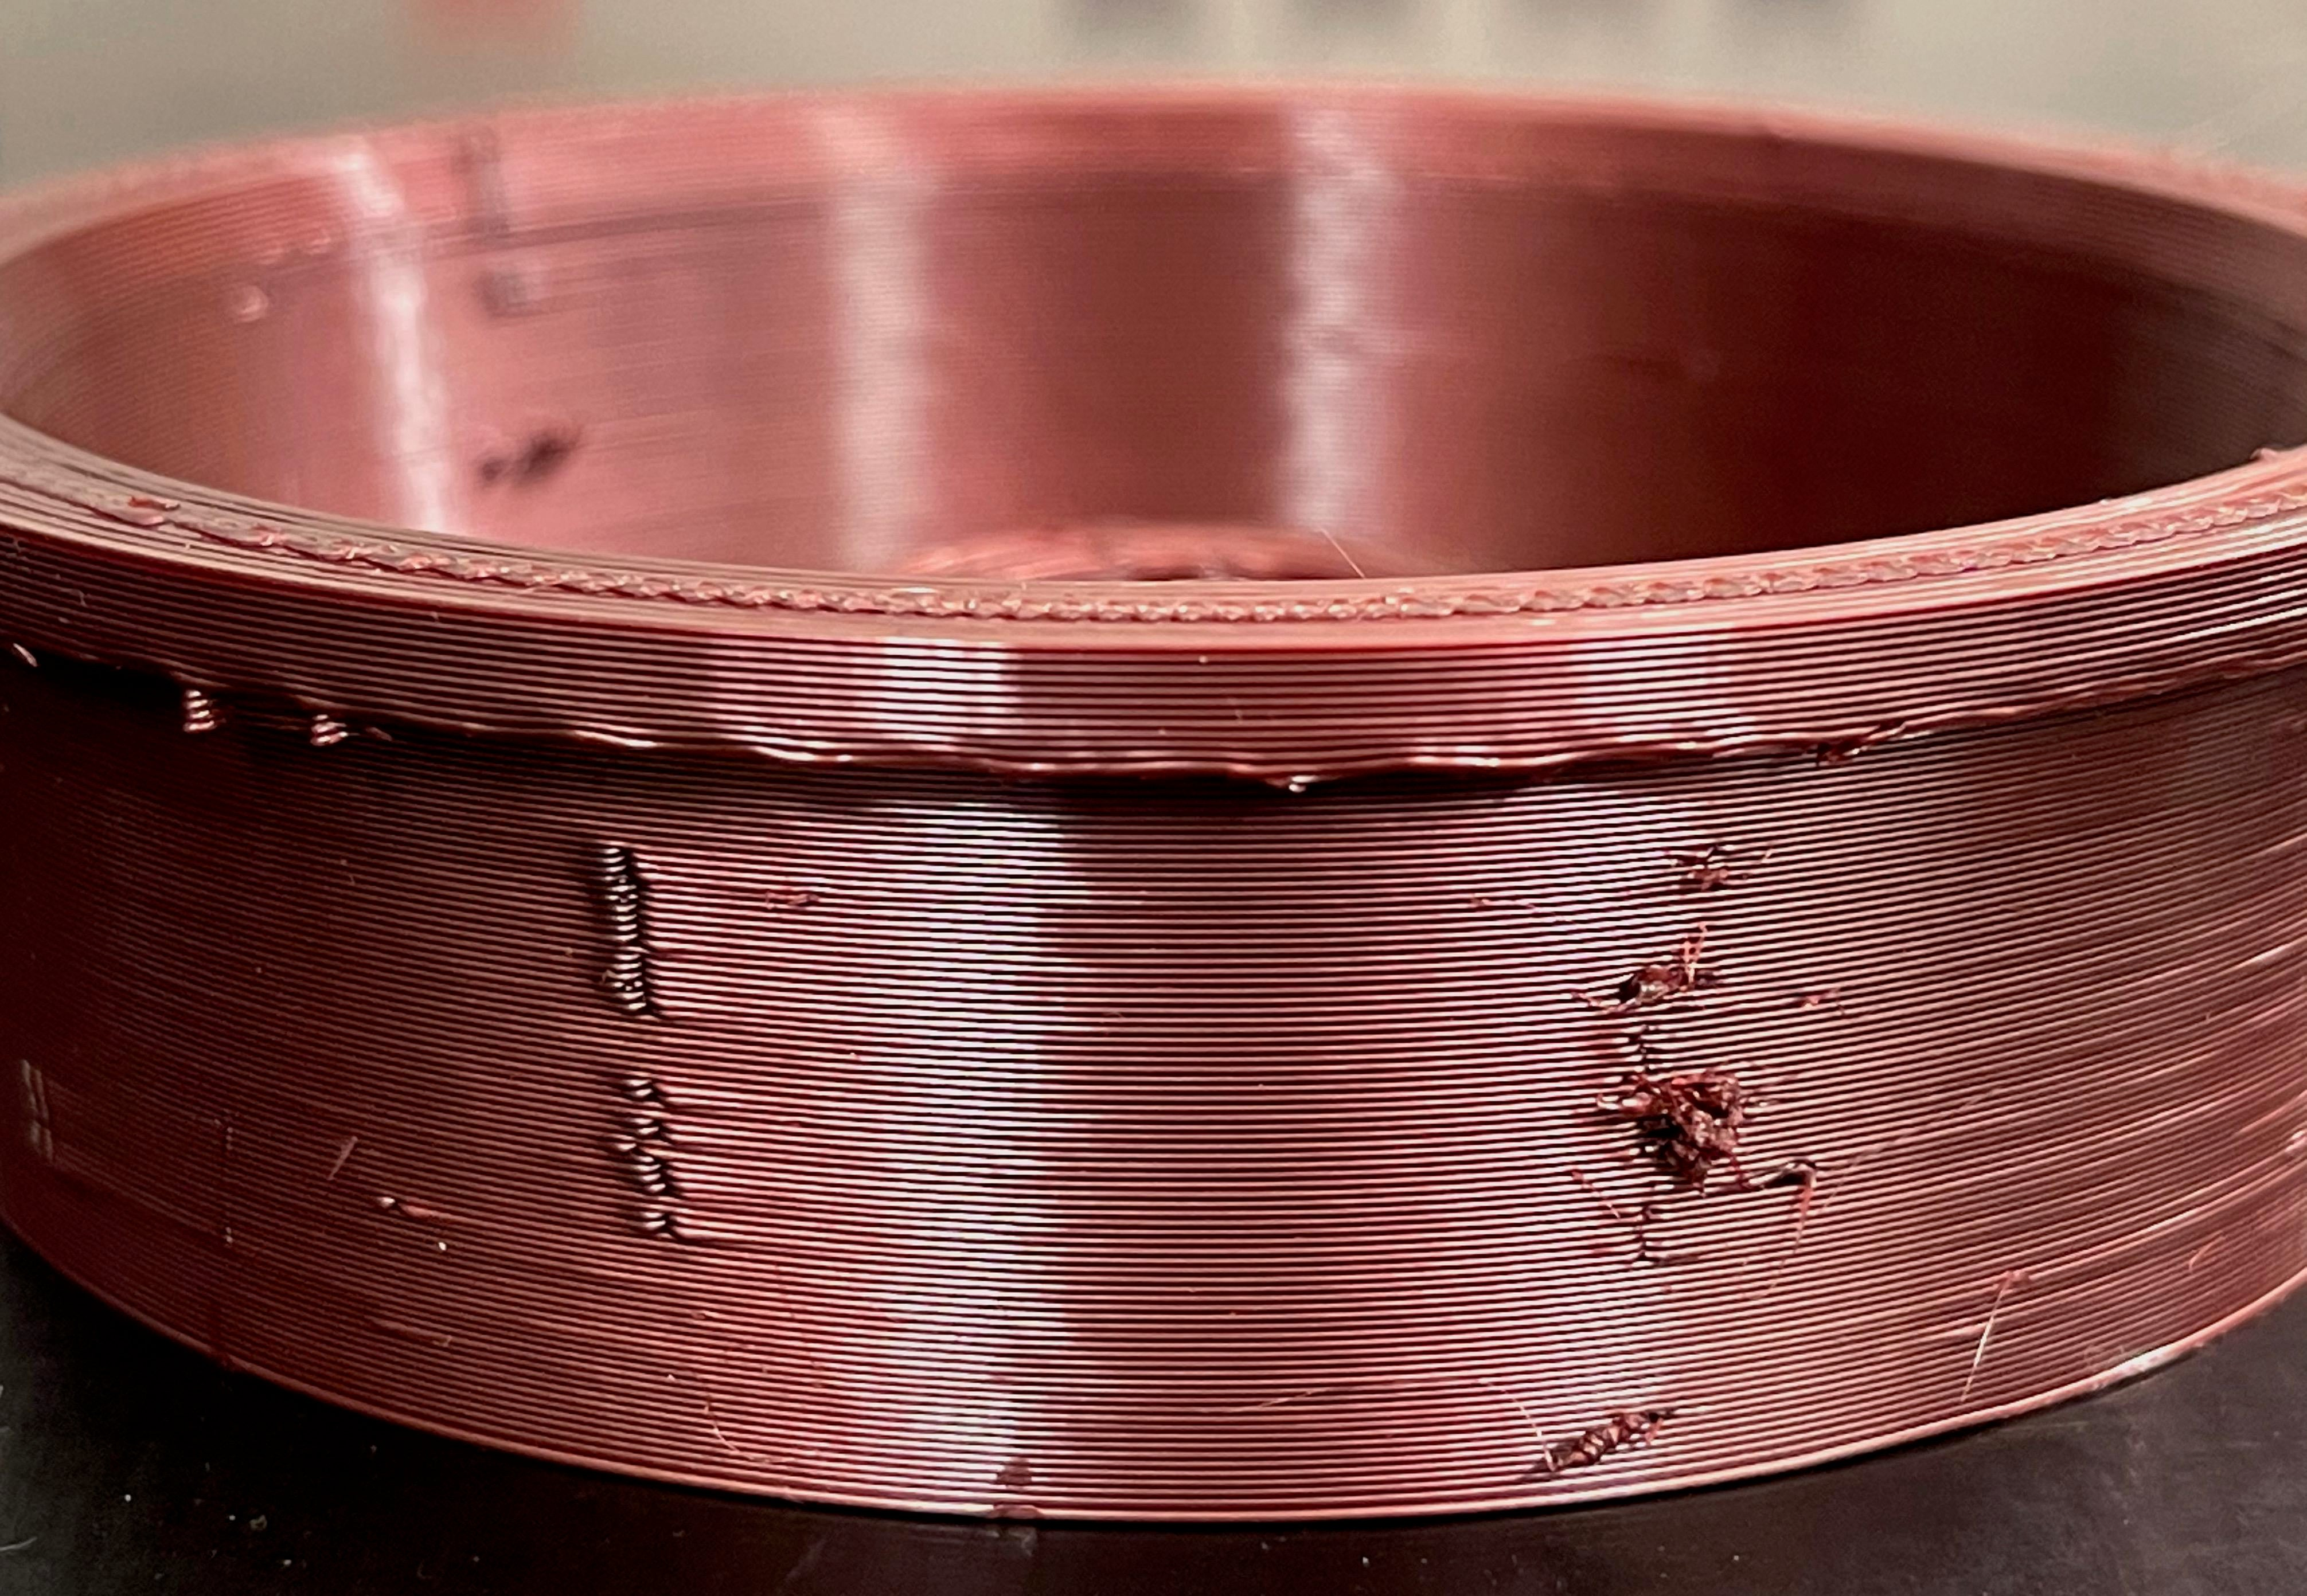blob: (489, 820, 969, 1373), (1440, 775, 1771, 1238), (1362, 1324, 1710, 1496)
